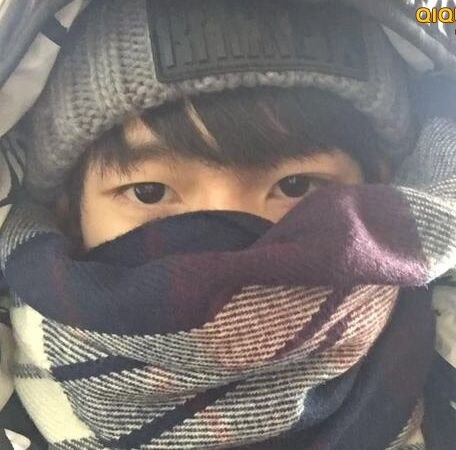face_mask: (74, 94, 371, 405)
